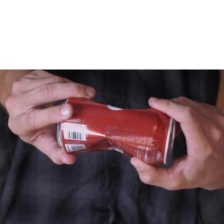can: (54, 92, 178, 169)
